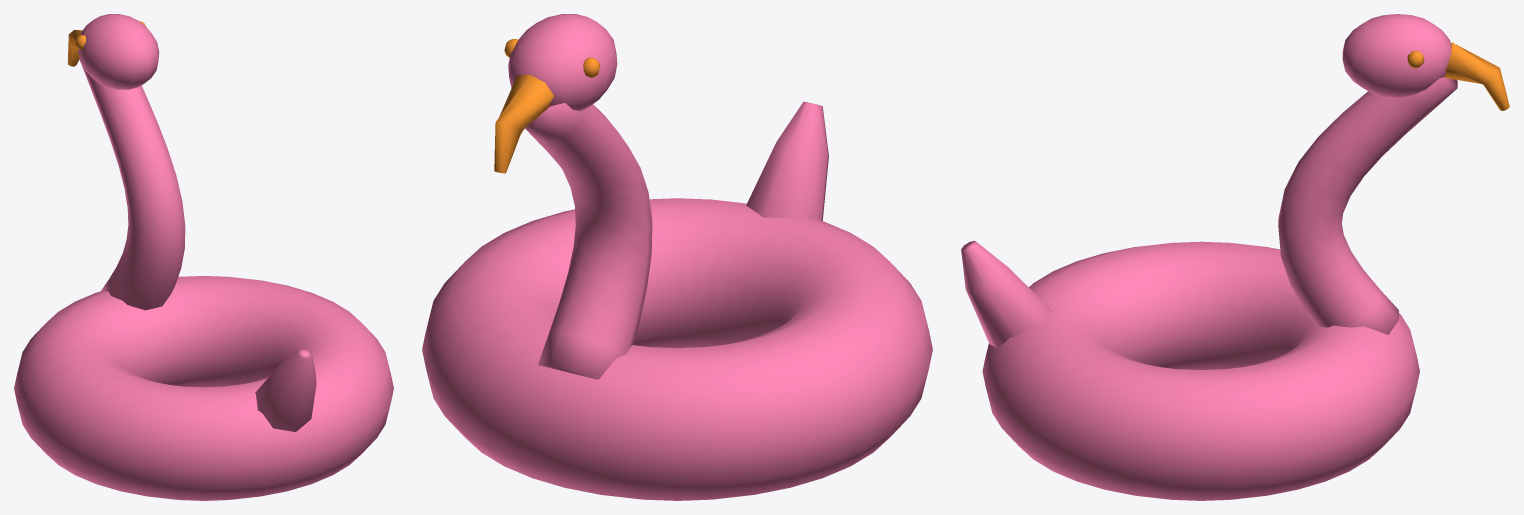
The model's file is BumperFlamingo.obj.
3 renders of one model, left to right at view 1: azimuth 30°, elevation 25°; view 2: azimuth 150°, elevation 25°; view 3: azimuth 270°, elevation 25°, orthographic. The views are drawn at different scales.
Parts seen in each view (by area): view 1: Pink, Beak; view 2: Pink, Beak; view 3: Pink, Beak.
Boxes of the visible parts, x1,y1,x2,y2 form: Pink: [14, 14, 393, 500]; Beak: [67, 21, 145, 66]; Pink: [422, 14, 932, 500]; Beak: [494, 39, 600, 173]; Pink: [961, 14, 1457, 500]; Beak: [1407, 42, 1509, 110].
Size of the model in its own units: 4.9 by 5.1 by 6.15.
